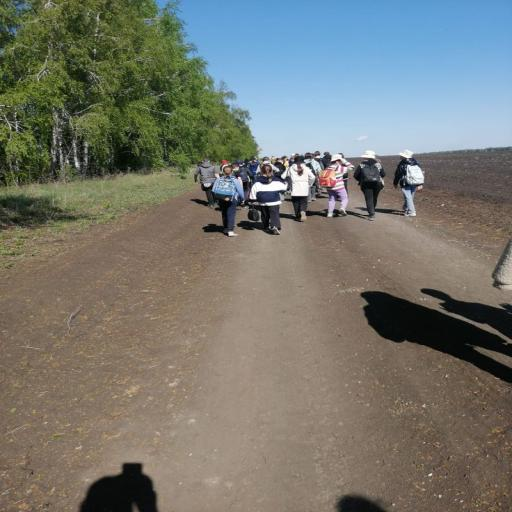hole: (250, 164, 286, 234), (213, 165, 244, 236), (355, 151, 385, 220), (286, 156, 315, 221), (394, 150, 422, 216), (327, 154, 354, 217), (195, 158, 219, 208), (492, 239, 511, 290), (304, 153, 322, 202), (232, 160, 253, 198), (247, 156, 259, 177)
ramp: (0, 190, 511, 511)
